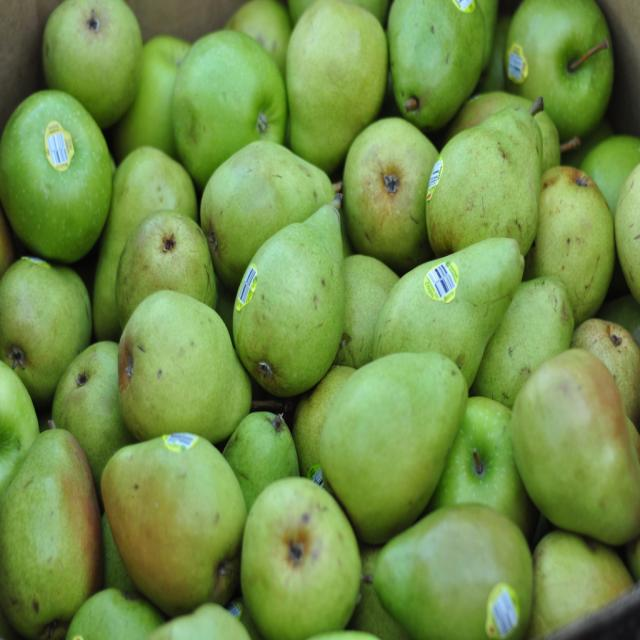Healty Apple: (3, 96, 110, 268), (172, 33, 288, 187), (434, 394, 543, 545), (502, 0, 615, 145), (0, 357, 41, 508)
